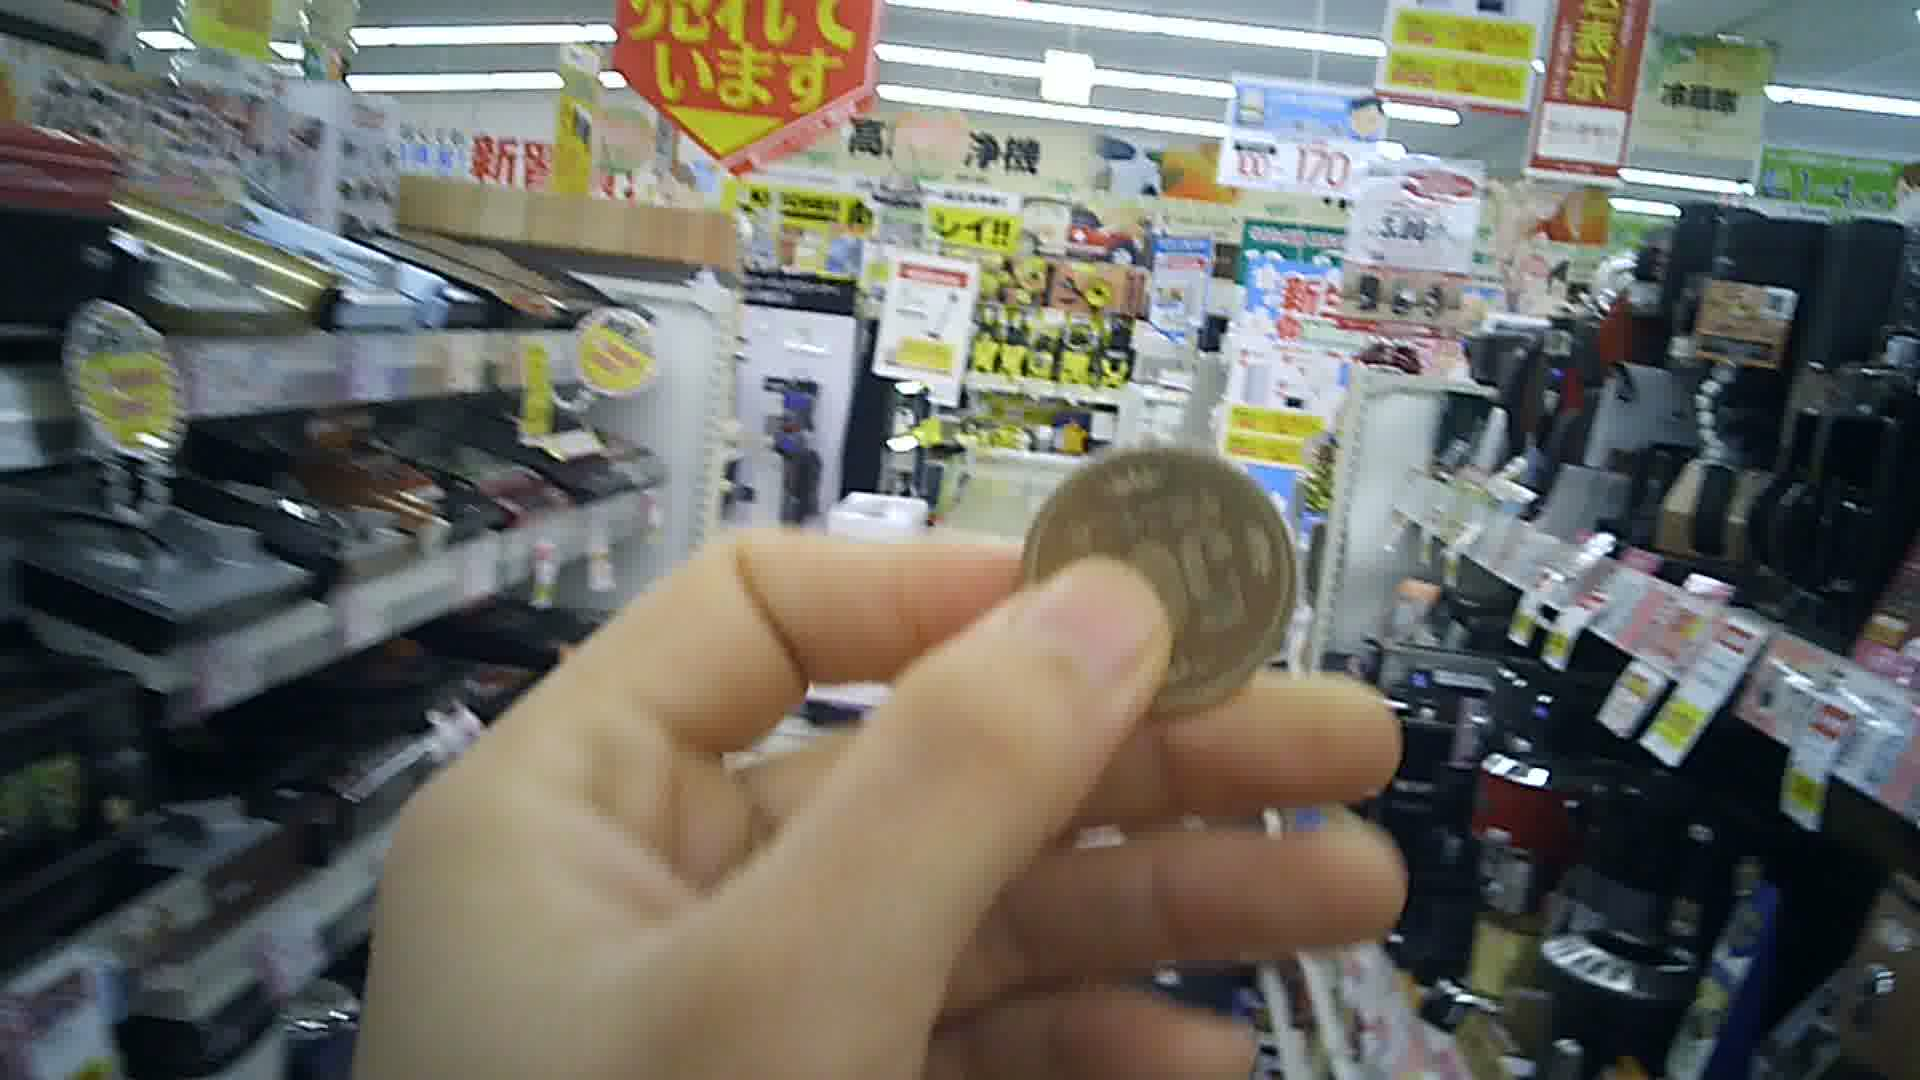500 Yen: (1021, 434, 1303, 705)
